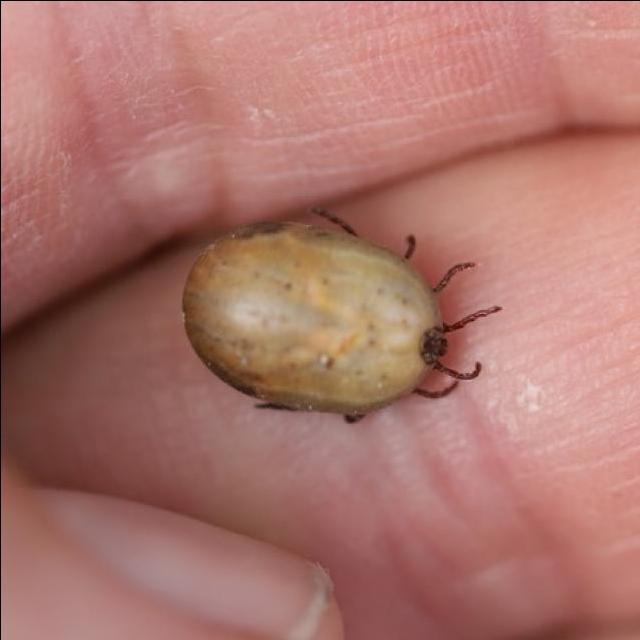Dermacentor Reticulatus-F-Fed: (182, 206, 503, 423)
